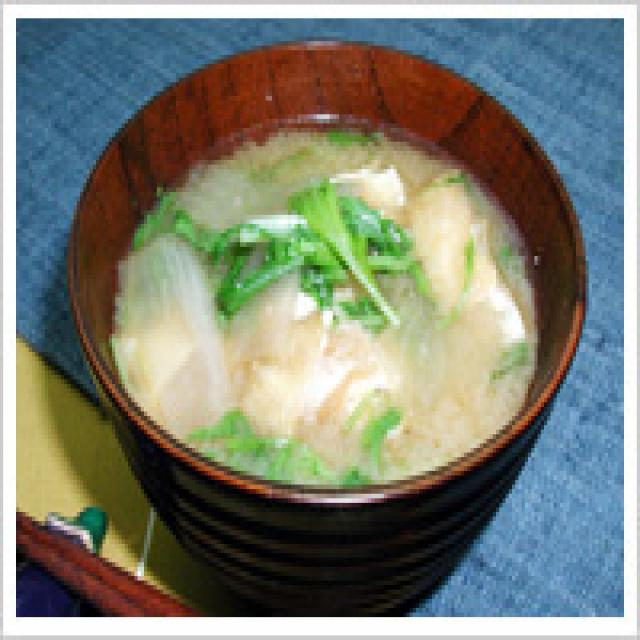汤锅炖物: (58, 23, 595, 603)
